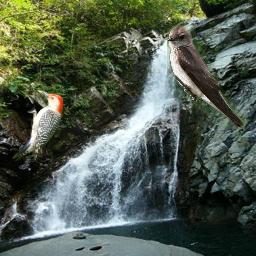Swallow: (167, 25, 246, 129)
Woodpecker: (10, 87, 63, 164)
